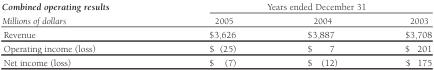table: (1, 1, 431, 67)
table column: (1, 1, 158, 67), (158, 1, 270, 67), (270, 1, 370, 67), (370, 1, 431, 67)
table column header: (1, 1, 431, 27)
table row: (1, 13, 431, 27), (1, 27, 431, 41), (1, 41, 431, 54), (1, 54, 431, 67), (1, 1, 431, 13)
table spanning cell: (1, 1, 158, 27), (158, 1, 431, 13)
